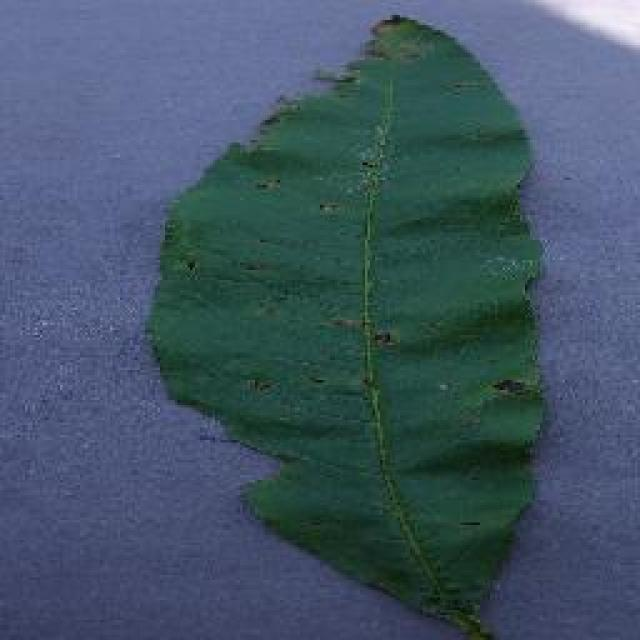Peach_Bacterial_Spot: (255, 135, 555, 557)
